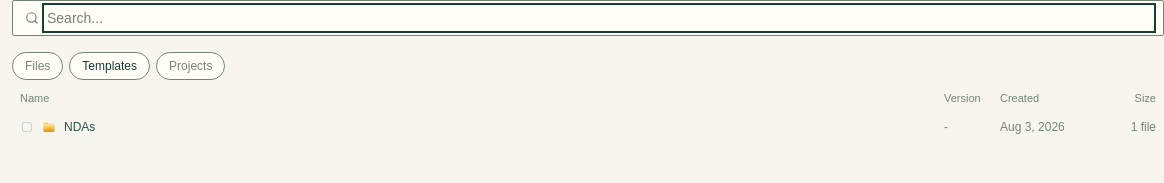
Scenario: FileDirectory › renders folders on the templates tab
Expected: the text "NDA template.docx" is not shown
Click the text "NDAs".
click(80, 126)  # box [64,120,95,134]
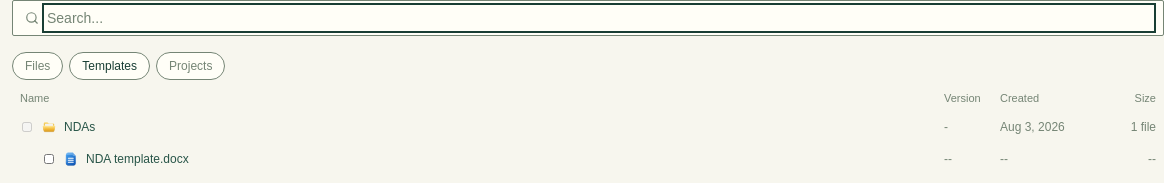
Expected: the text "NDA template.docx" is shown, [86,152,189,166]
